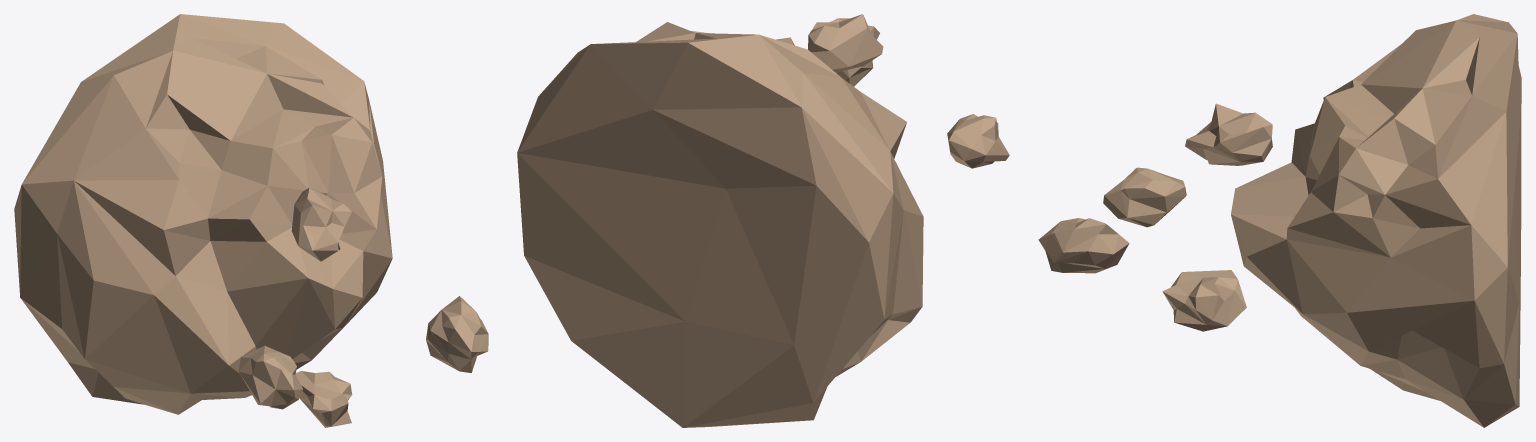
File: AstroidTile_4.fbx
The picture shows the model from 3 angles, left to right: view 1: azimuth 30°, elevation 25°; view 2: azimuth 150°, elevation 25°; view 3: azimuth 270°, elevation 25°; orthographic projection. The views are drawn at different scales.
Parts seen in each view (by area): view 1: Astroid.003; view 2: Astroid.003; view 3: Astroid.003.
Part boxes in pixels (x1,y1,x2,y2): Astroid.003: (14, 14, 488, 427); Astroid.003: (517, 14, 1009, 427); Astroid.003: (1038, 14, 1521, 427).
Size of the model in its own units: 0.9815 by 0.9735 by 1.13.
